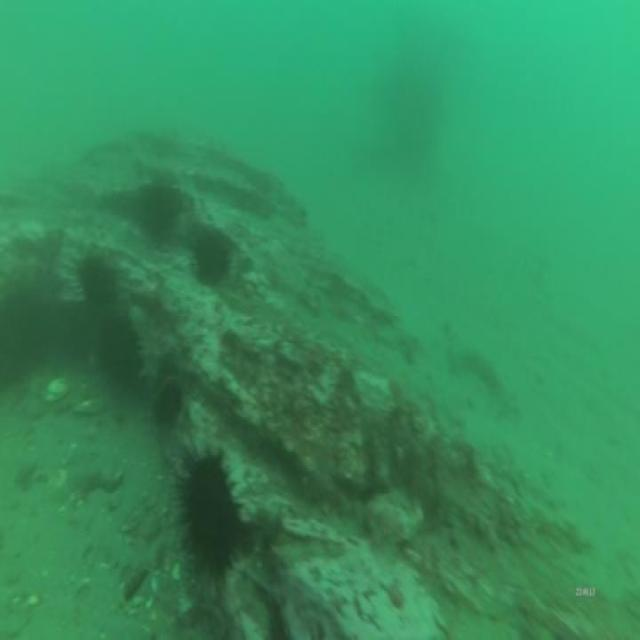echinus: (169, 442, 243, 590), (94, 312, 143, 394), (133, 178, 184, 253), (76, 253, 120, 325), (191, 228, 233, 290), (152, 378, 185, 430)
